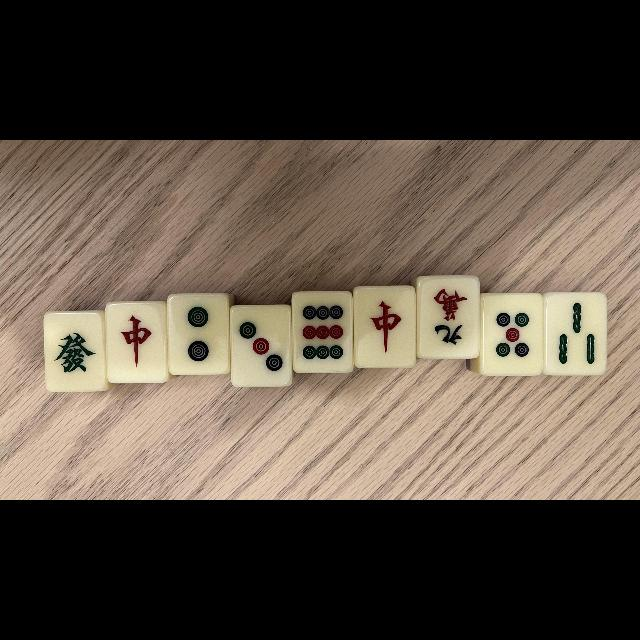b3: (548, 295, 604, 373)
c9: (418, 277, 478, 357)
d2: (170, 296, 228, 372)
d3: (232, 308, 290, 384)
d5: (484, 296, 540, 372)
d9: (294, 294, 350, 371)
dg: (44, 313, 104, 389)
dr: (108, 304, 166, 382), (356, 288, 414, 366)
